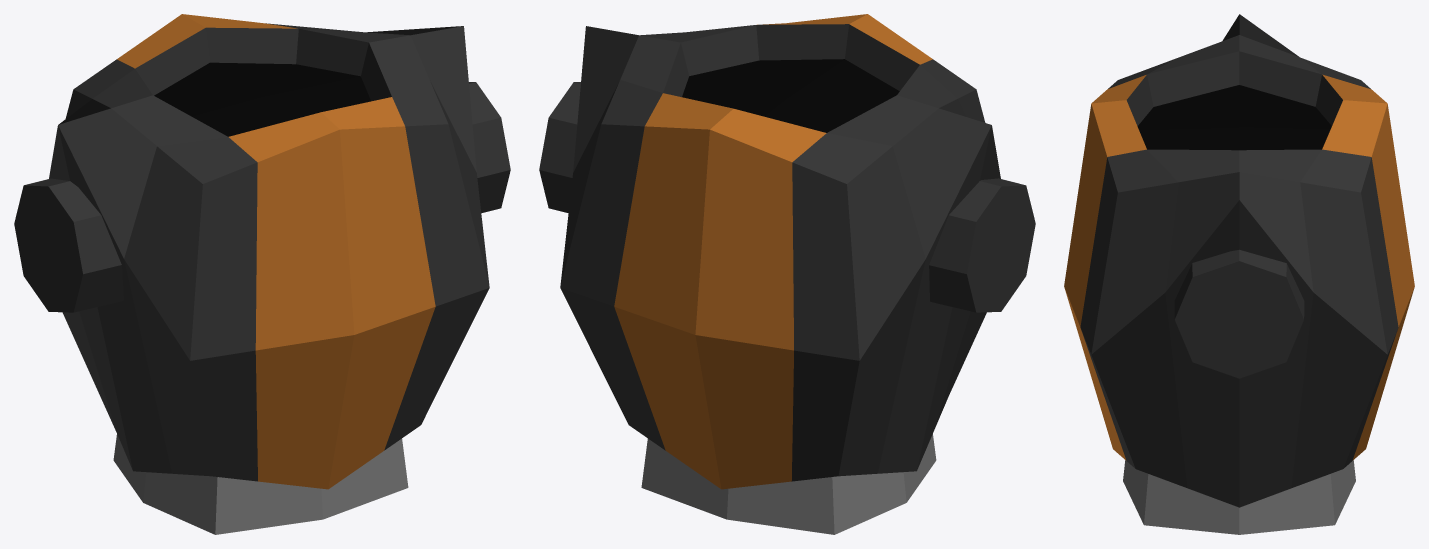
File: PraedatumSecurityBotBody.glb
3 renders of one model, left to right at view 1: azimuth 30°, elevation 25°; view 2: azimuth 150°, elevation 25°; view 3: azimuth 270°, elevation 25°, orthographic. The views are drawn at different scales.
Parts seen in each view (by area): view 1: Body, Arm2, Arm1; view 2: Body, Arm2, Arm1; view 3: Body, Arm1.
Boxes of the visible parts, bbox=[...] form: Body: bbox=[49, 14, 489, 534]; Arm2: bbox=[14, 178, 123, 312]; Arm1: bbox=[469, 82, 510, 213]; Body: bbox=[560, 14, 1000, 534]; Arm2: bbox=[929, 178, 1035, 312]; Arm1: bbox=[539, 82, 580, 213]; Body: bbox=[1064, 14, 1414, 534]; Arm1: bbox=[1174, 249, 1304, 378].
Size of the model in its own units: 3.06 by 2.78 by 2.32.
